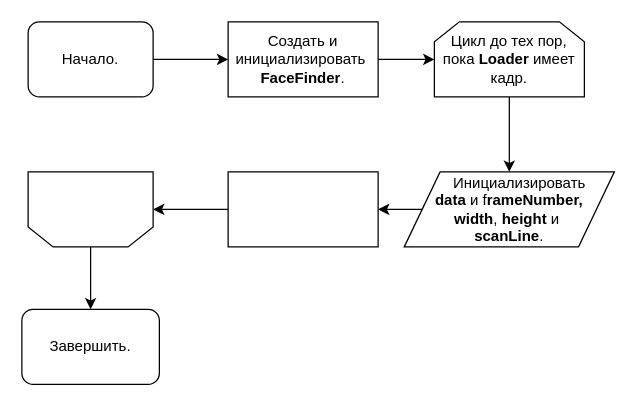
Some shapes in this 636 by 406 pixel diagram are drawn without their labels. Here are the shapes that lost their labels. From the top down, the centre of each, then its label:
At [90,209]: "Кадр += 1.".
At [302,209]: "Добавить изображение в FaceFinder .".
